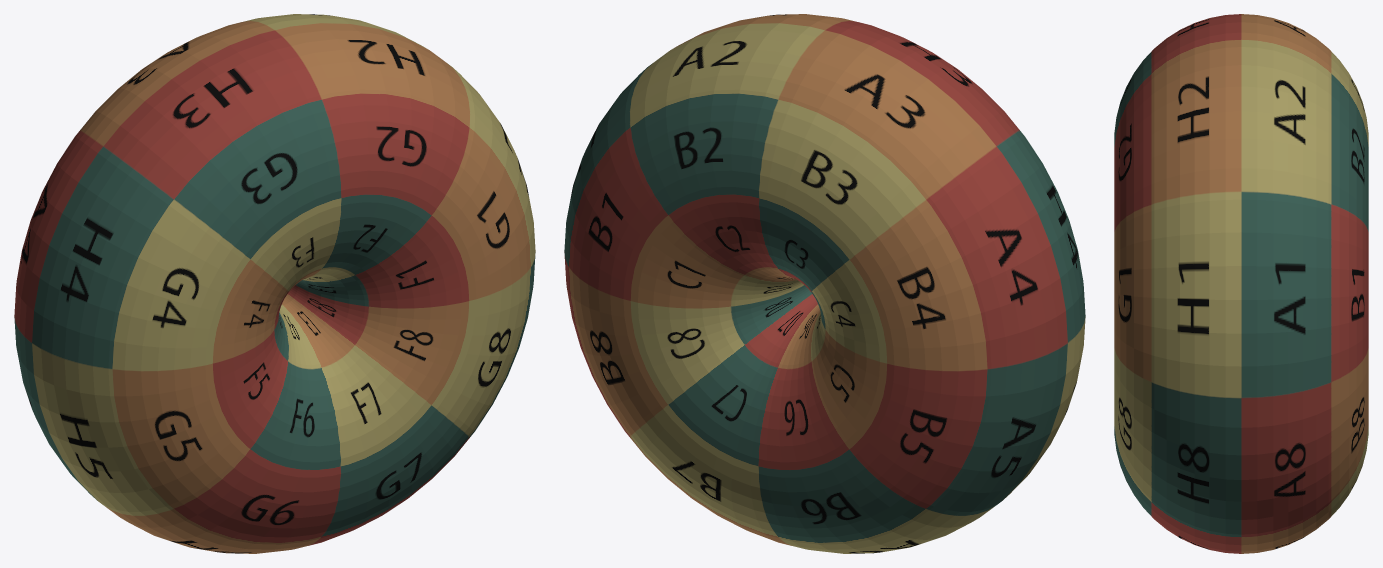
The model's file is texture_torus_R0_r26.glb.
The picture shows the model from 3 angles, left to right: view 1: azimuth 30°, elevation 25°; view 2: azimuth 150°, elevation 25°; view 3: azimuth 270°, elevation 25°; orthographic projection. The views are drawn at different scales.
Parts seen in each view (by area): view 1: world; view 2: world; view 3: world.
Part boxes in pixels (left/top/right/bottom): world: left=14, top=14, right=535, bottom=553; world: left=564, top=14, right=1085, bottom=553; world: left=1114, top=14, right=1368, bottom=553.
Bounding box in the file's own units: 18.93 × 18.9 × 8.92.
1 material, 1 textured.
